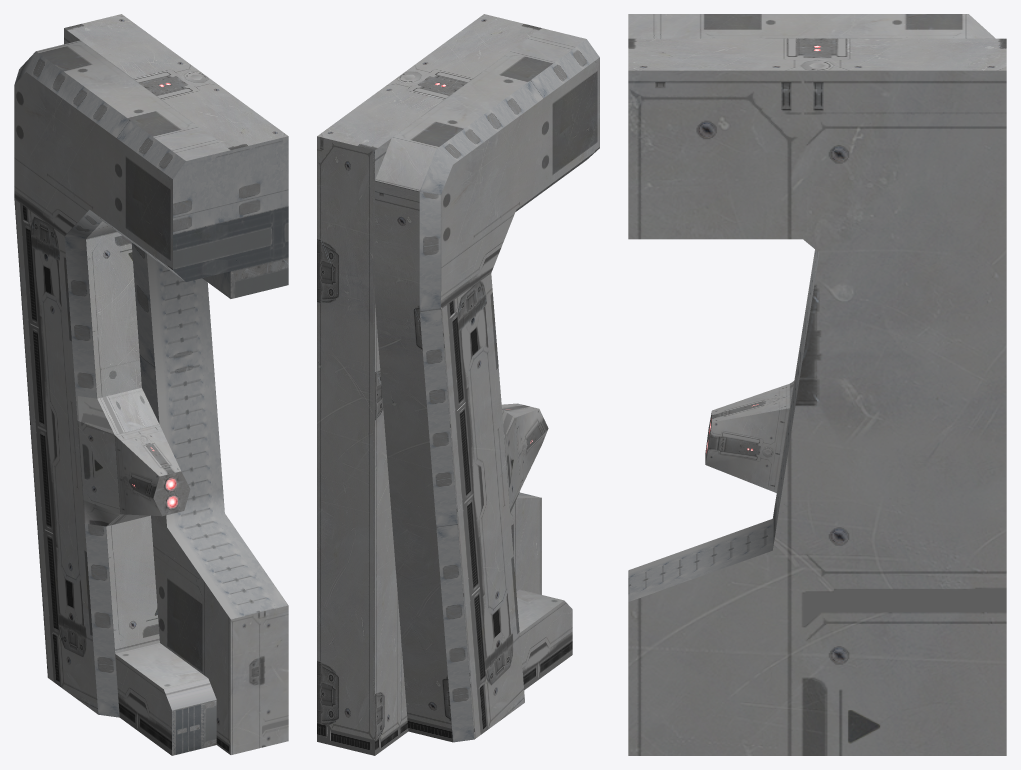
The model's file is SM_WallFrameAngle.fbx.
3 renders of one model, left to right at view 1: azimuth 30°, elevation 25°; view 2: azimuth 150°, elevation 25°; view 3: azimuth 270°, elevation 25°, orthographic. The views are drawn at different scales.
Parts seen in each view (by area): view 1: SM_WallFrameAngle_LOD0; view 2: SM_WallFrameAngle_LOD0; view 3: SM_WallFrameAngle_LOD0.
Part boxes in pixels (box(x1,y1,x2,y2)): SM_WallFrameAngle_LOD0: box(14, 14, 288, 755); SM_WallFrameAngle_LOD0: box(317, 14, 599, 755); SM_WallFrameAngle_LOD0: box(628, 14, 1006, 755).
Bounding box in the file's own units: 40 × 100 × 200.
2 materials, 2 textured.
